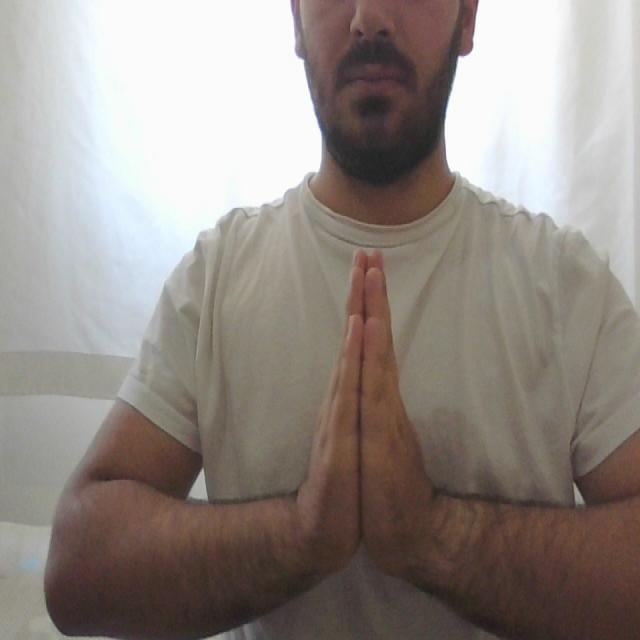Ozur-Dilemek: (296, 241, 446, 598)
